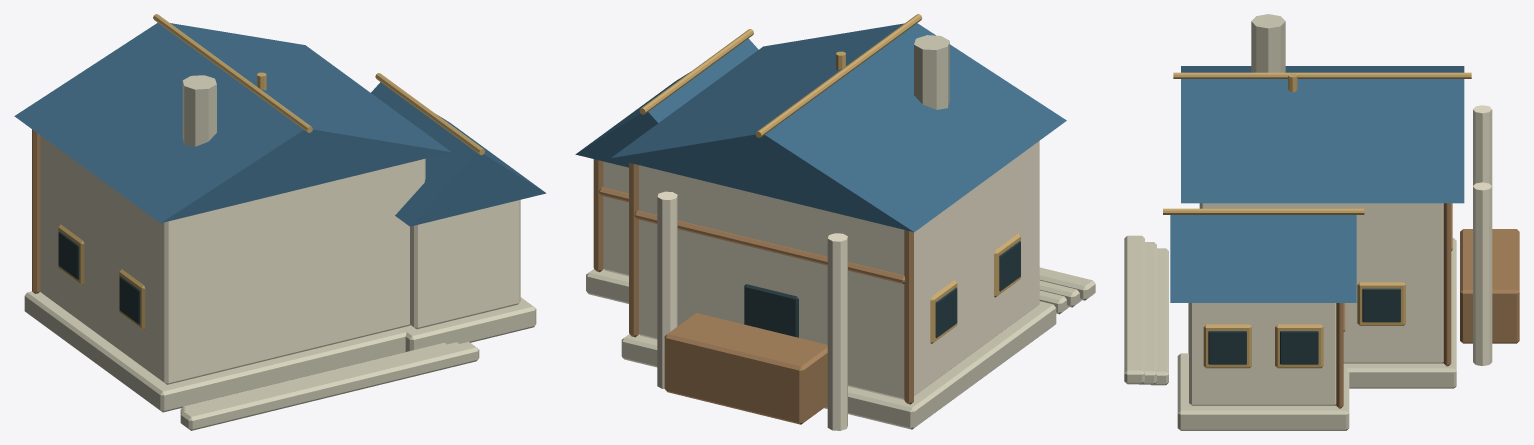
Rendered from level_20.glb.
3 views of the same model, side by side, from view 1: azimuth 30°, elevation 25°; view 2: azimuth 150°, elevation 25°; view 3: azimuth 270°, elevation 25° (orthographic). The views are drawn at different scales.
Parts seen in each view (by area): view 1: workshop — level 20; view 2: workshop — level 20; view 3: workshop — level 20.
Boxes of the visible parts, x1=… form: workshop — level 20: x1=14, y1=14, x2=546, y2=430; workshop — level 20: x1=575, y1=14, x2=1095, y2=430; workshop — level 20: x1=1124, y1=14, x2=1519, y2=430.
Size of the model in its own units: 5.71 by 4.05 by 5.3.
